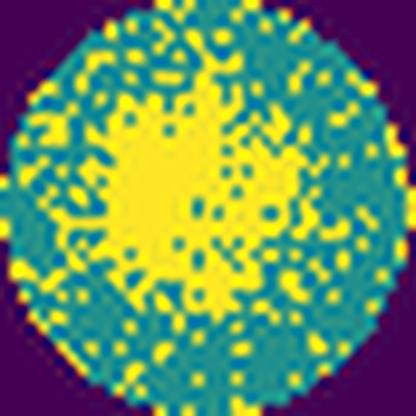Center: (85, 85, 306, 316)
